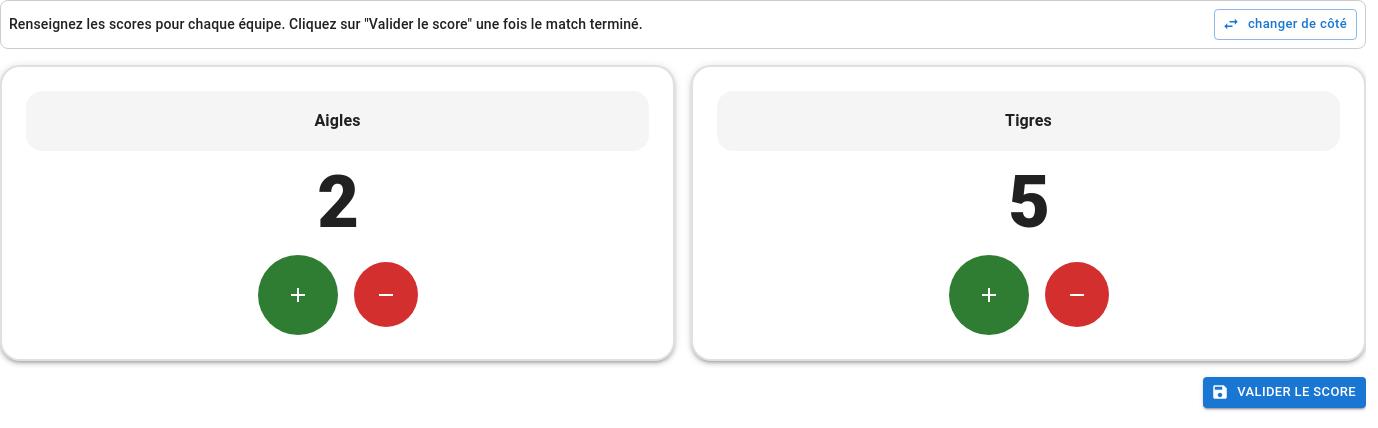
Test: GameCounter › should increment the team score when the plus button is clicked
Expected: the heading "2" is shown, [317,160,358,245]
Step 1. Click the button named "+" below "Aigles" → (298, 295), box [258,255,338,335]
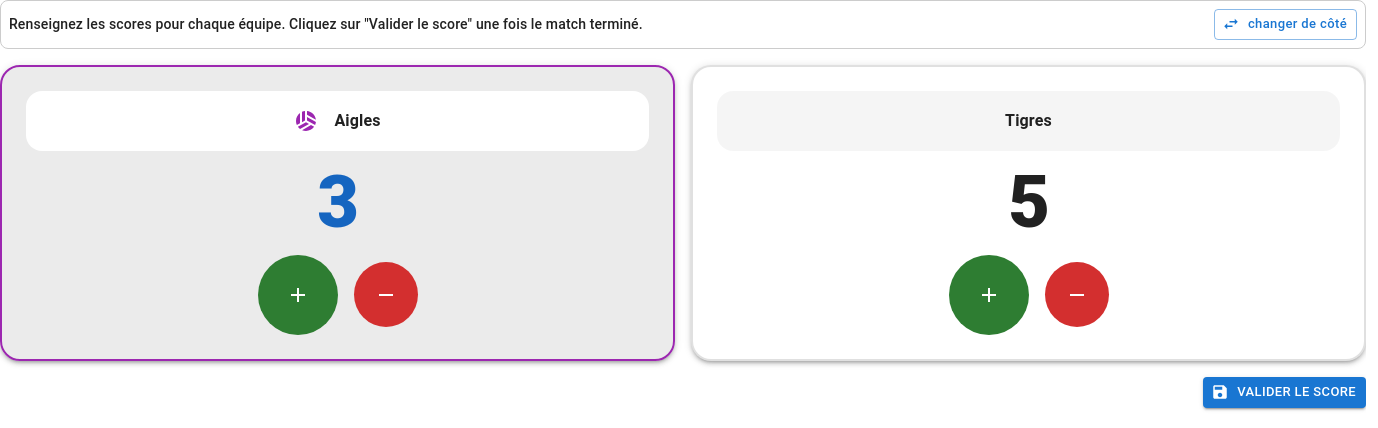
Expected: the heading "3" is shown, [317,160,358,245]
